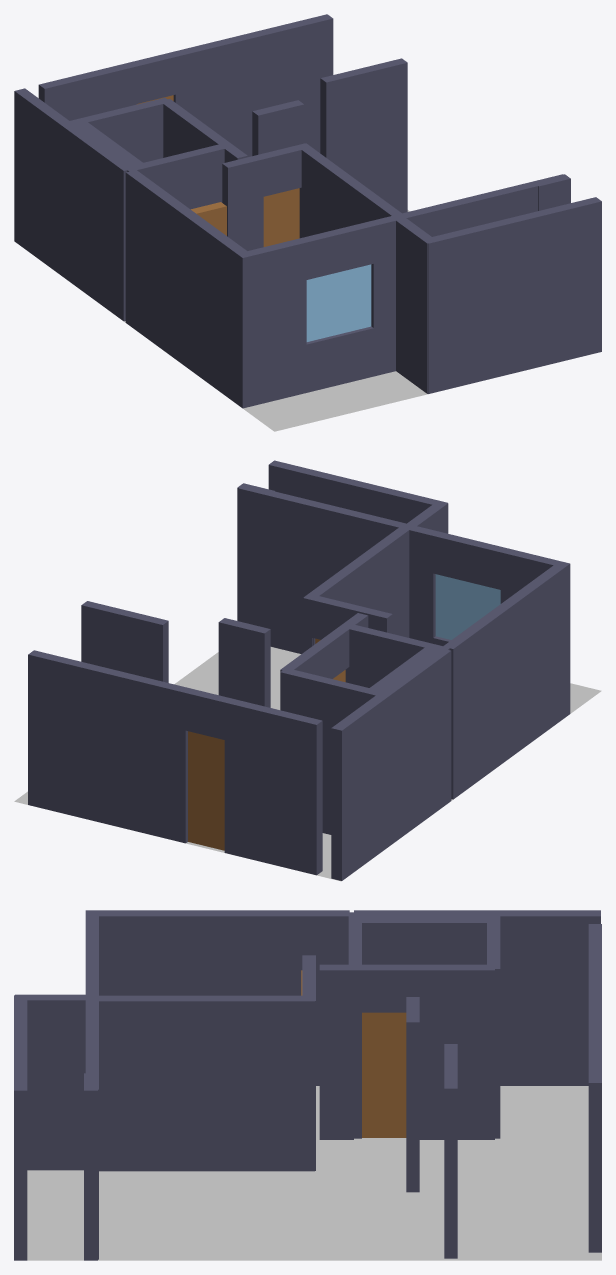
3 views of the same model, one above another, from view 1: azimuth 30°, elevation 25°; view 2: azimuth 150°, elevation 25°; view 3: azimuth 270°, elevation 25° (orthographic). The views are drawn at different scales.
Parts seen in each view (by area): view 1: wall, FloorPlan, Window, Door, door; view 2: wall, Door, FloorPlan, Window; view 3: wall, FloorPlan, Door.
Boxes of the visible parts, <box> form: wall: <box>14,14,601,408</box>; FloorPlan: <box>14,210,427,431</box>; Window: <box>306,264,371,341</box>; Door: <box>136,95,299,246</box>; door: <box>191,202,226,235</box>; wall: <box>28,460,570,880</box>; Door: <box>188,638,345,850</box>; FloorPlan: <box>14,647,601,881</box>; Window: <box>435,574,500,639</box>; wall: <box>14,910,601,1260</box>; FloorPlan: <box>27,1086,601,1260</box>; Door: <box>362,1012,406,1137</box>.
Bounding box in the file's own units: 6.38 × 2.8 × 8.79.
